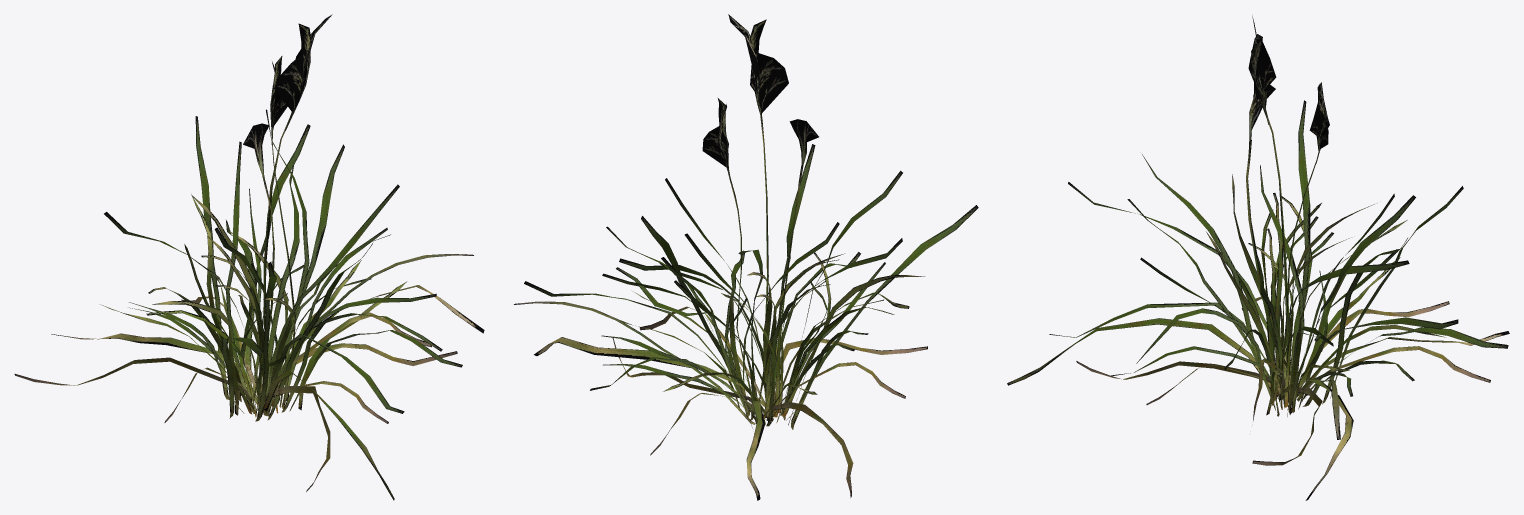
File: natural-grass-source.glb
3 views of the same model, side by side, from view 1: azimuth 30°, elevation 25°; view 2: azimuth 150°, elevation 25°; view 3: azimuth 270°, elevation 25° (orthographic). The views are drawn at different scales.
Parts seen in each view (by area): view 1: natural-grass-source runtime mesh; view 2: natural-grass-source runtime mesh; view 3: natural-grass-source runtime mesh.
Boxes of the visible parts, x1=… form: natural-grass-source runtime mesh: x1=14, y1=14, x2=484, y2=500; natural-grass-source runtime mesh: x1=514, y1=14, x2=978, y2=500; natural-grass-source runtime mesh: x1=1007, y1=16, x2=1509, y2=500.
Bounding box in the file's own units: 0.4649 × 0.44 × 0.4977.
Materials: 1 (1 with a texture image).
